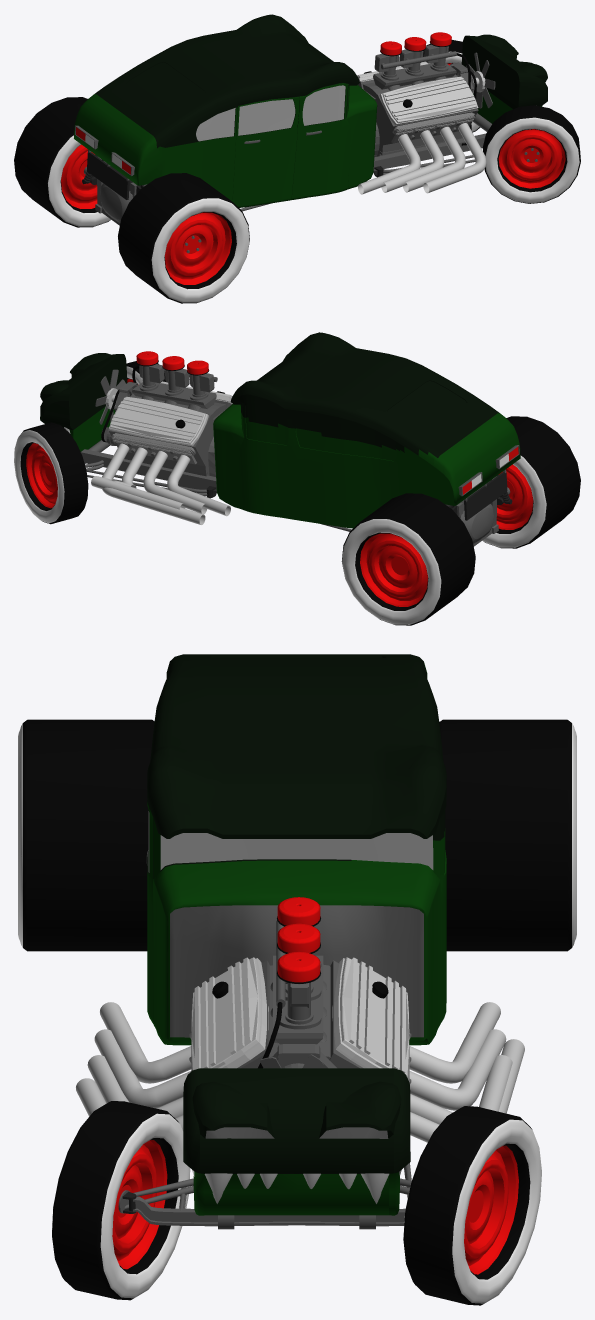
File: CrocRod.fbx
The picture shows the model from 3 angles, top to bottom: view 1: azimuth 30°, elevation 25°; view 2: azimuth 150°, elevation 25°; view 3: azimuth 270°, elevation 25°; orthographic projection. The views are drawn at different scales.
Visible parts, largest first — view 1: pCylinder2, pasted__polySurface212, Back_Wheel, pCylinder57, Back_Wheel1, pCylinder5, pCube1, pCube2, pCylinder9, polySurface40, pCube8, polySurface55; view 2: pCylinder2, pasted__polySurface212, Back_Wheel1, Back_Wheel, polySurface55, pCylinder5, pCube1, pCube2, polySurface40, pCylinder9, pCube8; view 3: pCylinder2, pasted__polySurface212, Back_Wheel1, Back_Wheel, pCylinder5, polySurface55, pCylinder57, pCylinder9, pCube6, pCone1, pCylinder44.
Boxes of the visible parts, <box> form: pCylinder2: <box>74,14,377,207</box>; pasted__polySurface212: <box>357,32,495,194</box>; Back_Wheel: <box>118,173,249,303</box>; pCylinder57: <box>482,105,580,203</box>; Back_Wheel1: <box>14,97,110,227</box>; pCylinder5: <box>461,35,547,123</box>; pCube1: <box>95,133,485,225</box>; pCube2: <box>87,152,129,199</box>; pCylinder9: <box>477,34,547,82</box>; polySurface40: <box>100,183,132,222</box>; pCube8: <box>74,125,134,175</box>; polySurface55: <box>423,40,480,132</box>; pCylinder2: <box>213,332,520,528</box>; pasted__polySurface212: <box>91,351,232,524</box>; Back_Wheel1: <box>341,493,475,625</box>; Back_Wheel: <box>482,416,580,548</box>; polySurface55: <box>14,422,88,524</box>; pCylinder5: <box>40,354,127,451</box>; pCube1: <box>80,449,498,546</box>; pCube2: <box>464,472,507,520</box>; polySurface40: <box>460,504,493,543</box>; pCylinder9: <box>40,353,110,401</box>; pCube8: <box>458,445,519,496</box>; pCylinder2: <box>147,654,446,1045</box>; pasted__polySurface212: <box>76,897,524,1142</box>; Back_Wheel1: <box>439,719,576,951</box>; Back_Wheel: <box>18,719,154,951</box>; pCylinder5: <box>183,1068,410,1215</box>; polySurface55: <box>403,1106,541,1305</box>; pCylinder57: <box>52,1101,190,1300</box>; pCylinder9: <box>192,1081,401,1138</box>; pCube6: <box>133,1196,405,1226</box>; pCone1: <box>204,1173,389,1203</box>; pCylinder44: <box>124,1178,411,1209</box>.
Size of the model in its own units: 27.59 by 10.06 by 14.72.
